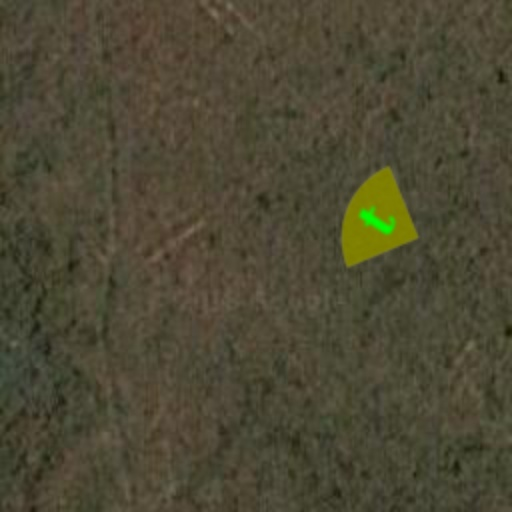quarter_circle: (308, 152, 444, 288)
